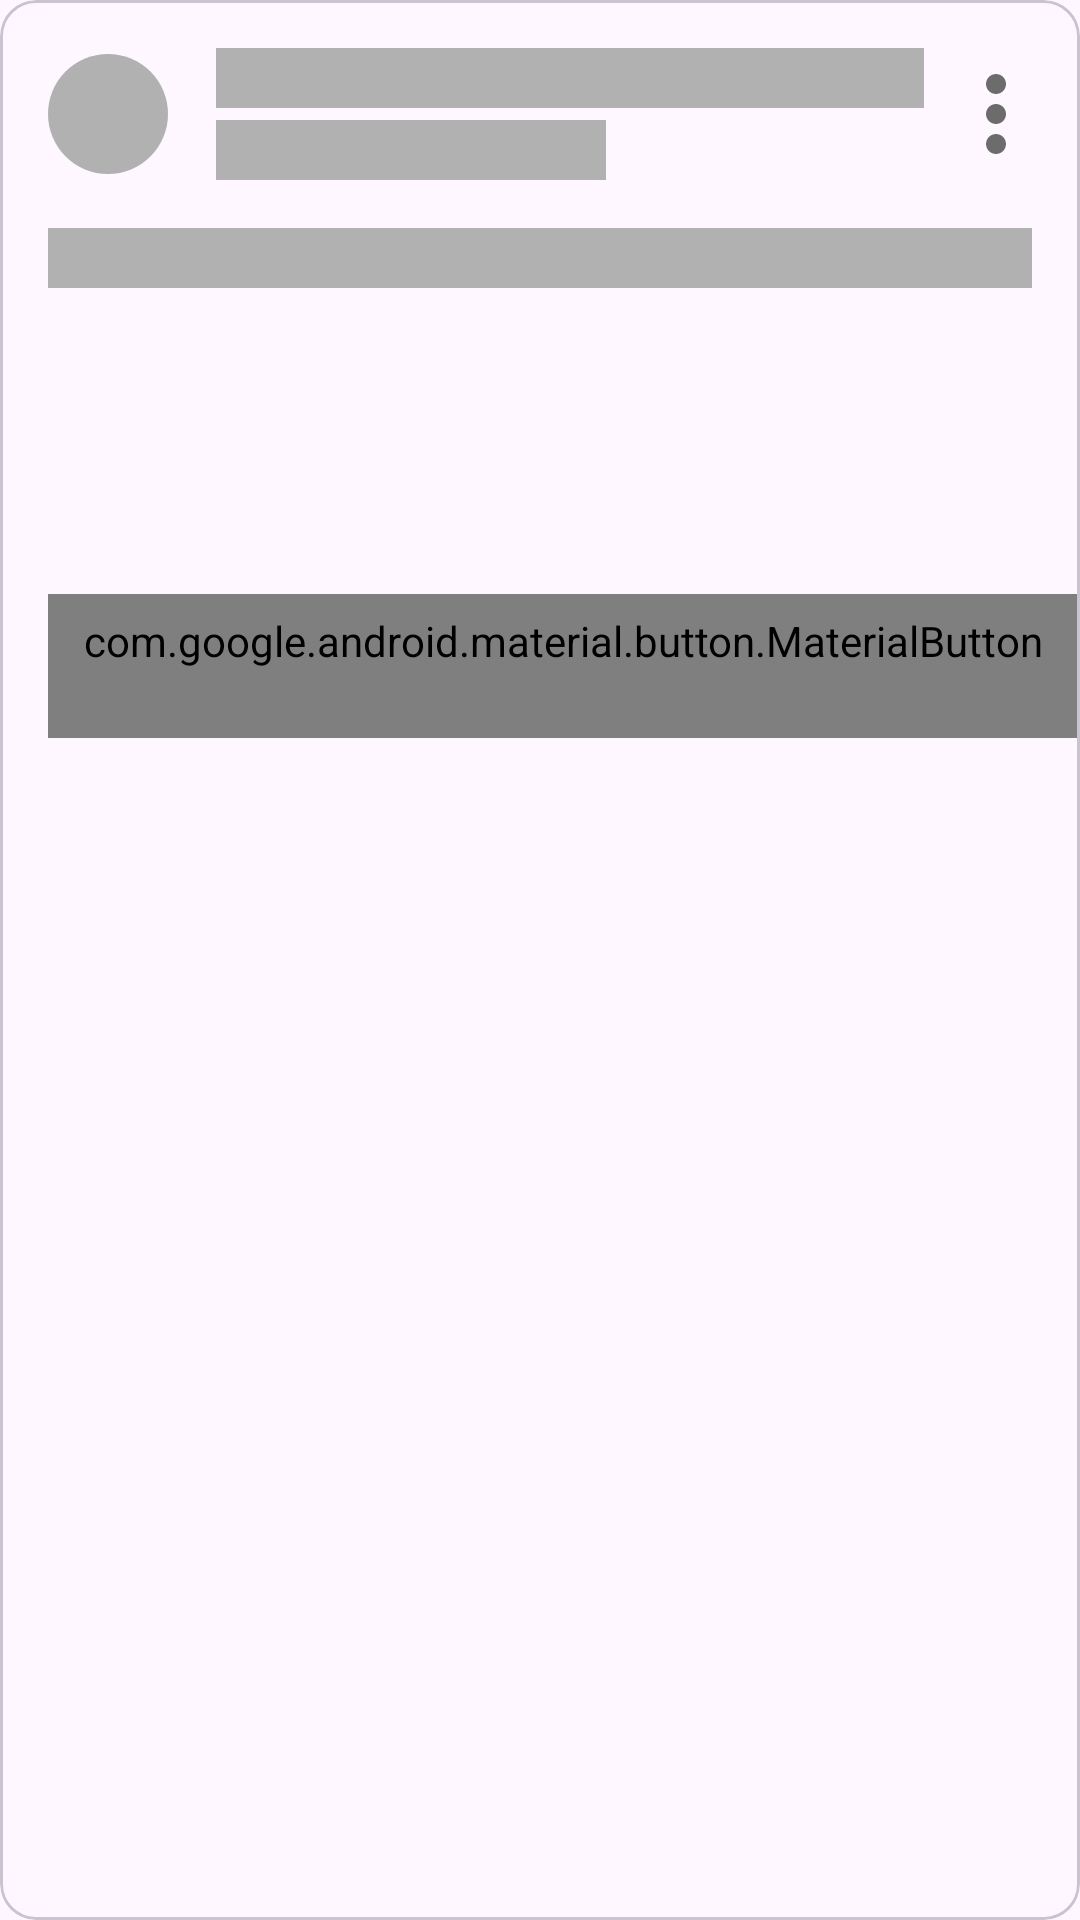

Named icons in this screenshot (1080w x 1920h) and their bounding boxes, (x1, y1, x2, y2):
Меню: (986, 74, 1006, 154)
